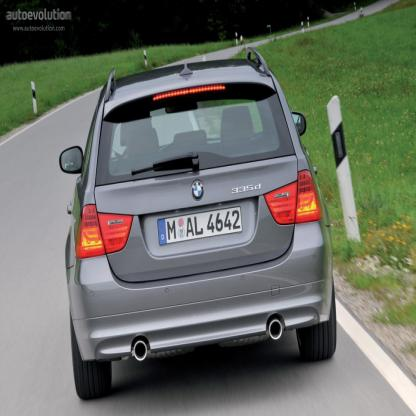Vehicle: (58, 46, 338, 404)
